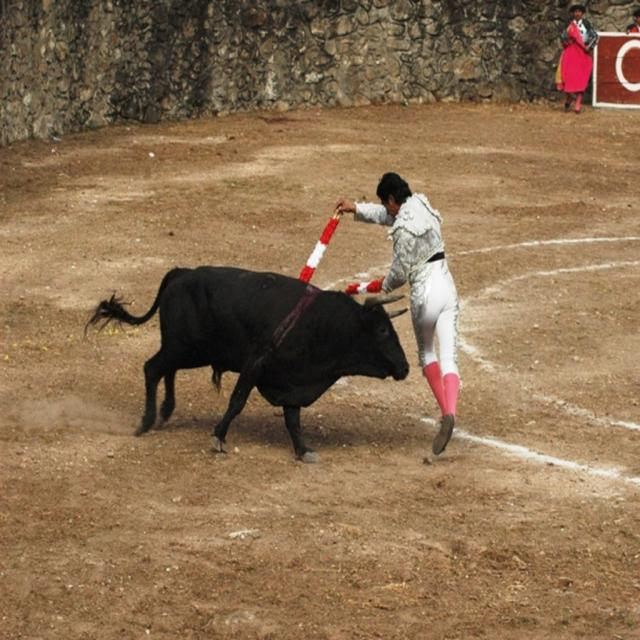Deer: (82, 260, 410, 462)
